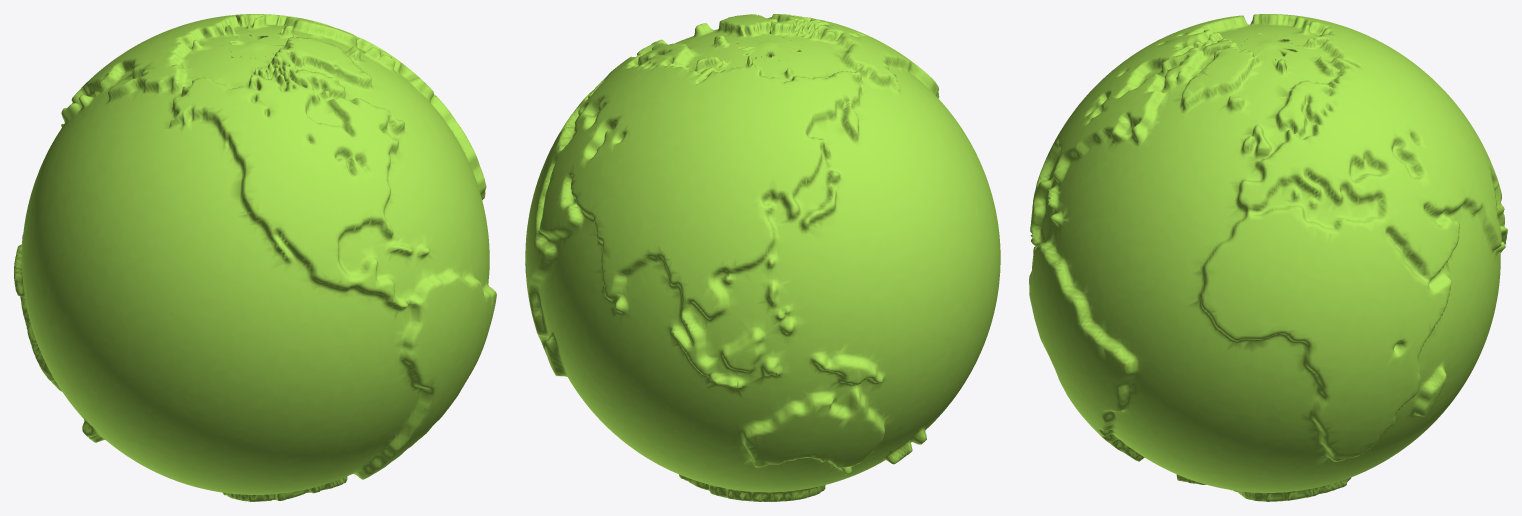
Rendered from glbWorld.glb.
3 renders of one model, left to right at view 1: azimuth 30°, elevation 25°; view 2: azimuth 150°, elevation 25°; view 3: azimuth 270°, elevation 25°, orthographic.
Visible parts, largest first — view 1: World; view 2: World; view 3: World.
Part boxes in pixels (x1=…): World: x1=14, y1=14, x2=496, y2=501; World: x1=525, y1=14, x2=1000, y2=501; World: x1=1029, y1=14, x2=1507, y2=501.
Size of the model in its own units: 3.49 by 3.59 by 3.52.
